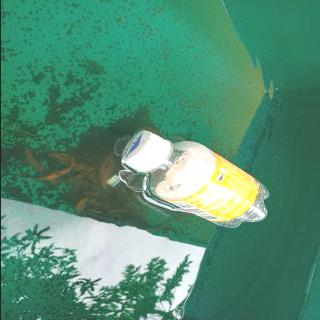bottle: (118, 129, 276, 231)
